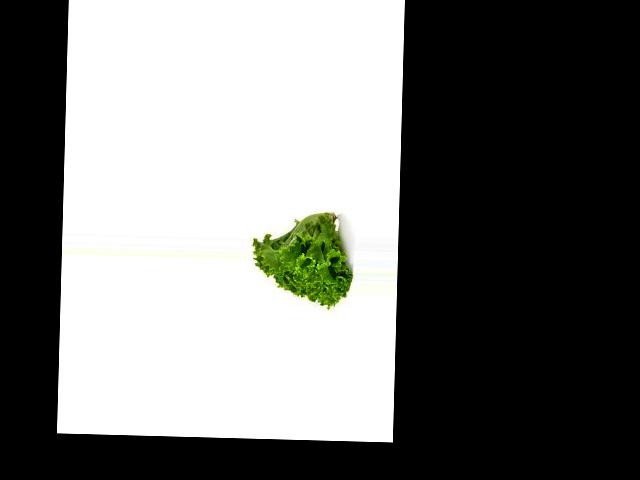lettuce: (251, 205, 352, 312)
